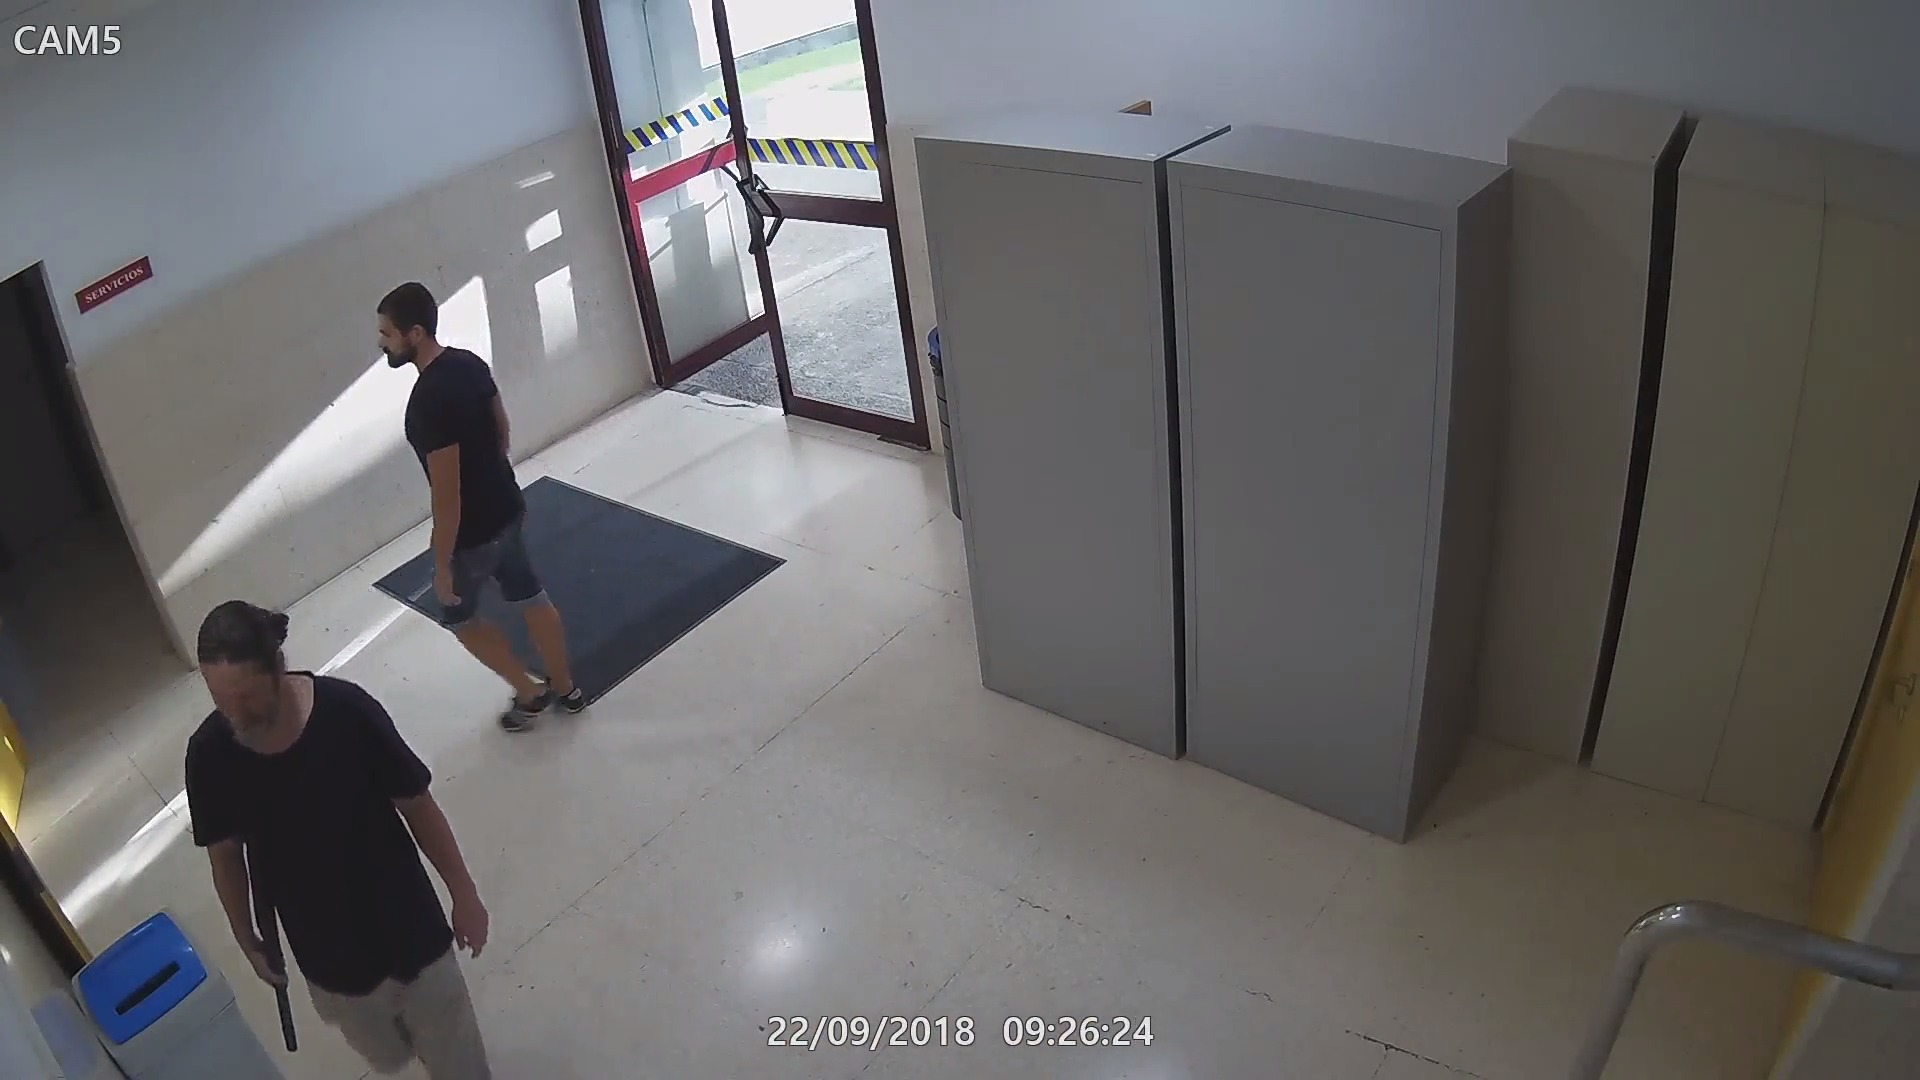Short_rifle: (252, 849, 309, 1062)
